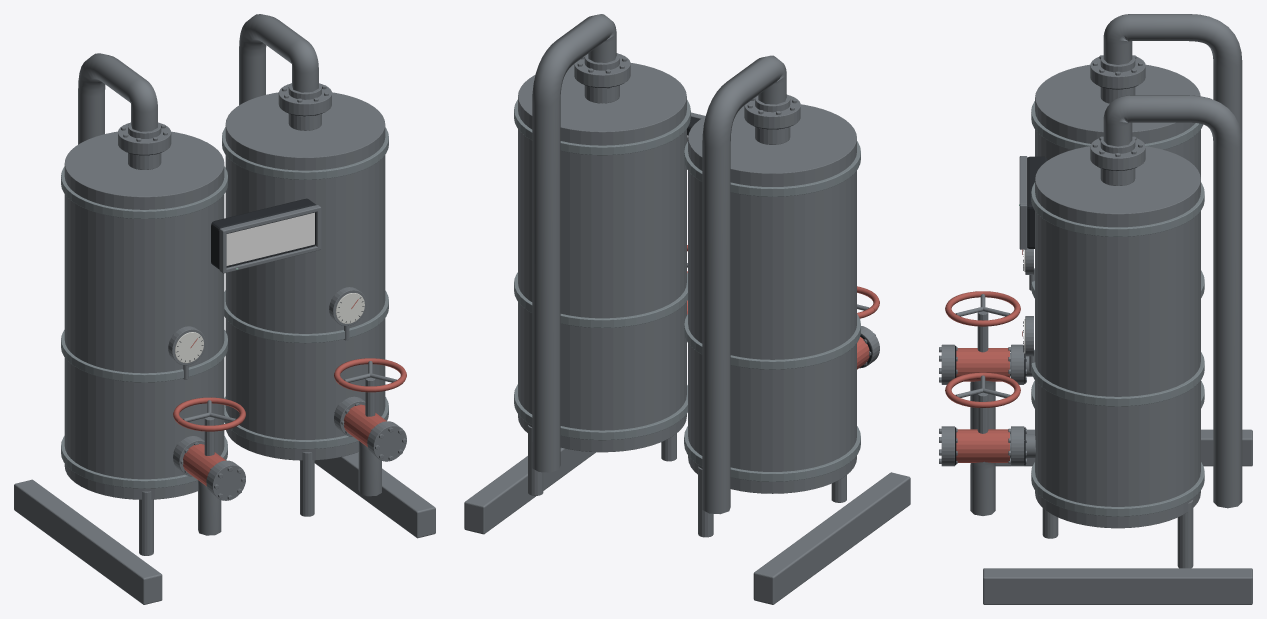
The model's file is BM_WaterFilterSkid.fbx.
3 renders of one model, left to right at view 1: azimuth 30°, elevation 25°; view 2: azimuth 150°, elevation 25°; view 3: azimuth 270°, elevation 25°, orthographic. The views are drawn at different scales.
Visible parts, largest first — view 1: BM_WaterFilterSkid; view 2: BM_WaterFilterSkid; view 3: BM_WaterFilterSkid.
Boxes of the visible parts, x1,y1,x2,y2 form: BM_WaterFilterSkid: (14, 14, 435, 604); BM_WaterFilterSkid: (464, 14, 910, 604); BM_WaterFilterSkid: (939, 14, 1252, 604).
Size of the model in its own units: 190 by 272 by 163.
